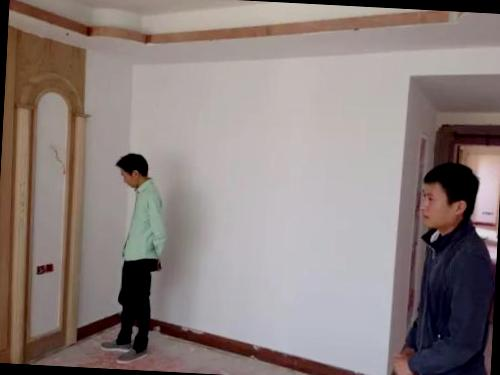no_helmet: (413, 157, 480, 236), (113, 149, 154, 189)
